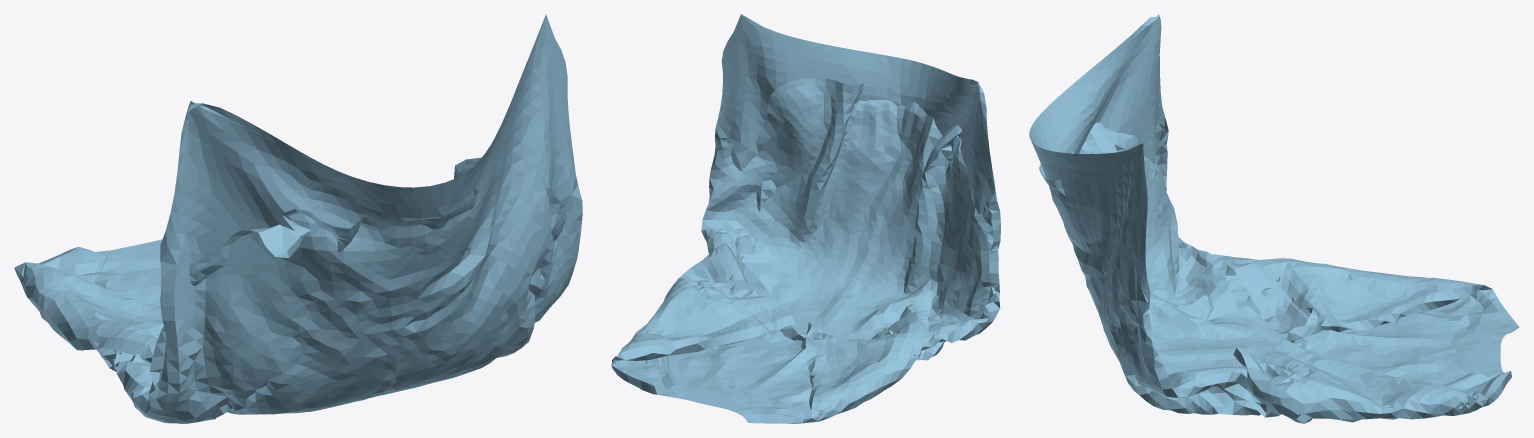
Rendered from frame_09.glb.
The picture shows the model from 3 angles, left to right: view 1: azimuth 30°, elevation 25°; view 2: azimuth 150°, elevation 25°; view 3: azimuth 270°, elevation 25°; orthographic projection. The views are drawn at different scales.
Visible parts, largest first — view 1: frame_09.obj; view 2: frame_09.obj; view 3: frame_09.obj.
Part boxes in pixels (bbox=[...]): frame_09.obj: bbox=[14, 14, 582, 423]; frame_09.obj: bbox=[611, 14, 1000, 423]; frame_09.obj: bbox=[1029, 14, 1519, 423].
Bounding box in the file's own units: 1.14 × 0.9253 × 1.43.
